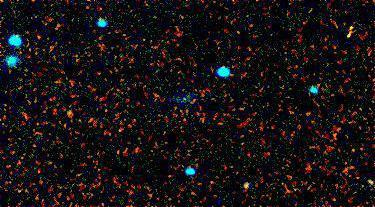star: (56, 98, 86, 128)
